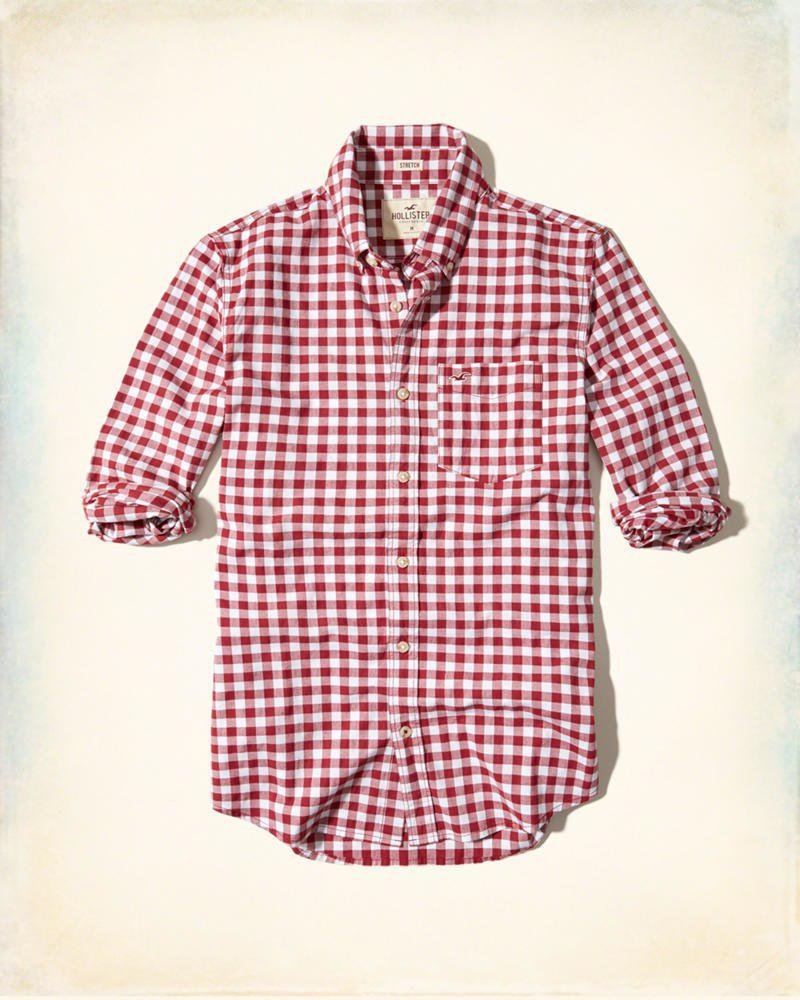teeshirt: (77, 119, 735, 859)
